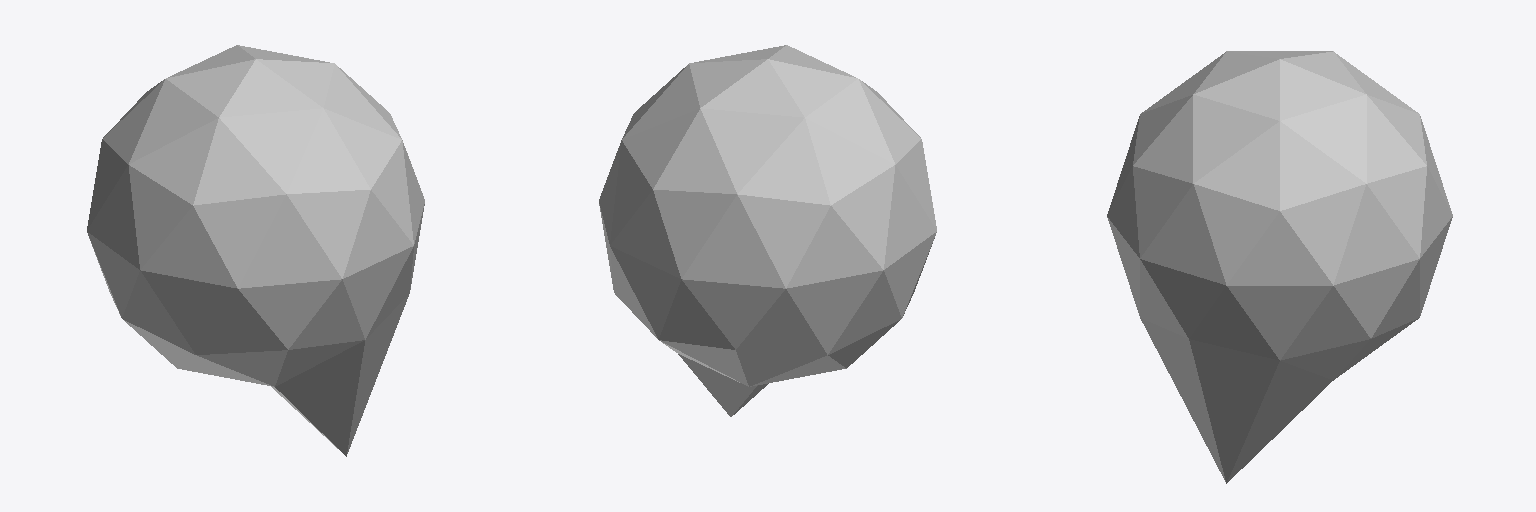
The model's file is lamp.obj.
3 renders of one model, left to right at view 1: azimuth 30°, elevation 25°; view 2: azimuth 150°, elevation 25°; view 3: azimuth 270°, elevation 25°, orthographic.
Parts seen in each view (by area): view 1: Icosphere; view 2: Icosphere; view 3: Icosphere.
Part boxes in pixels (bbox=[...]): Icosphere: bbox=[87, 45, 424, 456]; Icosphere: bbox=[599, 45, 936, 416]; Icosphere: bbox=[1107, 51, 1452, 483].
Size of the model in its own units: 1.9 by 2.51 by 2.